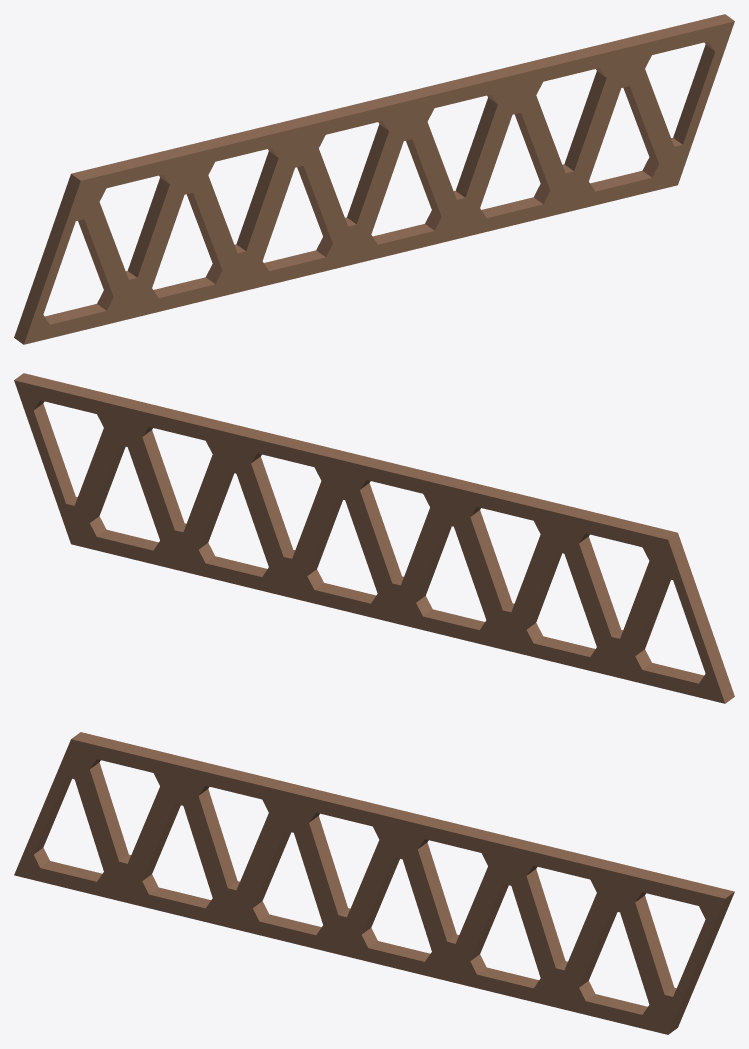
The model's file is high-truss.glb.
3 renders of one model, top to bottom at view 1: azimuth 30°, elevation 25°; view 2: azimuth 150°, elevation 25°; view 3: azimuth 330°, elevation 25°, orthographic.
Visible parts, largest first — view 1: MetalSupport; view 2: MetalSupport; view 3: MetalSupport.
Part boxes in pixels (<box>): MetalSupport: <box>14,14,734,344</box>; MetalSupport: <box>14,373,734,703</box>; MetalSupport: <box>14,732,734,1034</box>.
Size of the model in its own units: 2.6 by 0.5243 by 0.0619.
1 material, 1 textured.
